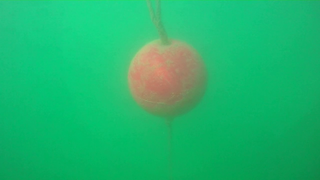buoy: (127, 38, 209, 118)
